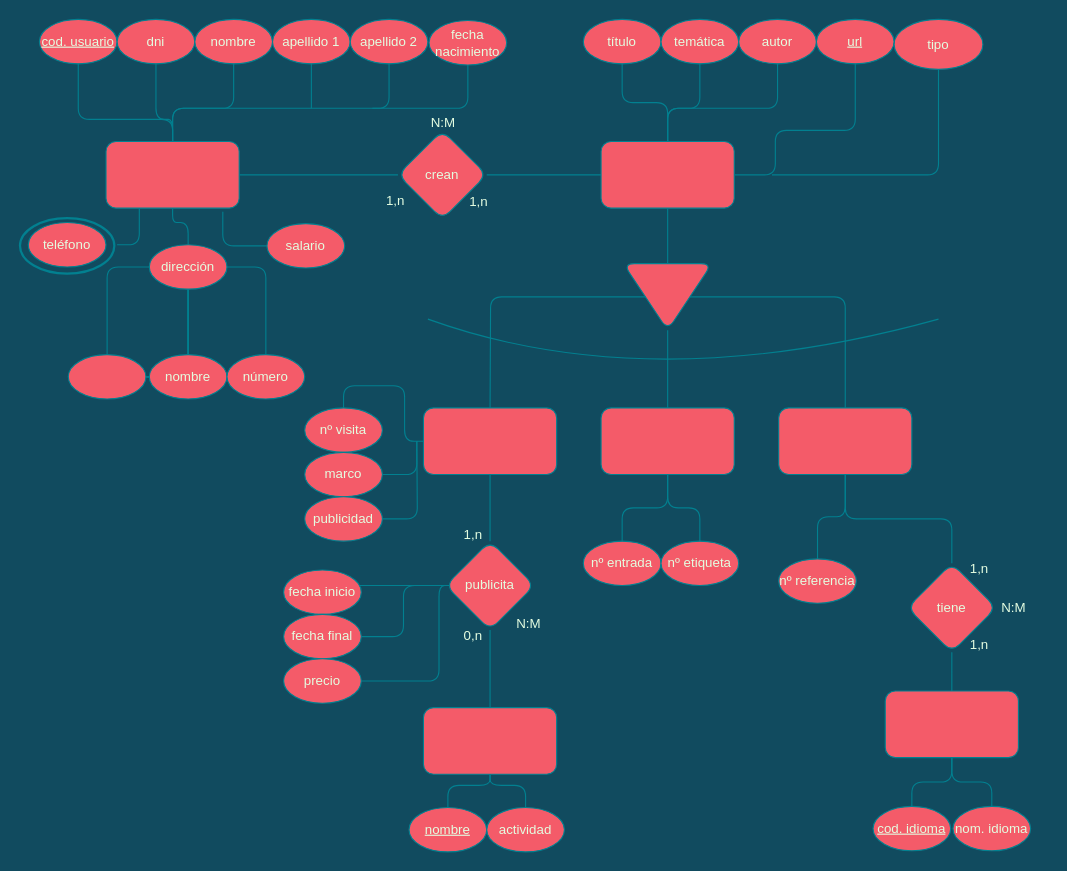
The diagram is 1067 pixels wide and 871 high, and some of its shapes have lost their labels. The shapes that lost their labels are listed below. From the top down, each one's centre as x and y in pixels, then its label:
the point at 172,174: EMPLEADO
the point at 667,174: WEB
the point at 106,376: vía
the point at 489,441: CONVENCIONAL
the point at 667,441: BLOG
the point at 845,441: WIKI
the point at 489,740: EMPRESA
the point at 951,724: IDIOMA
